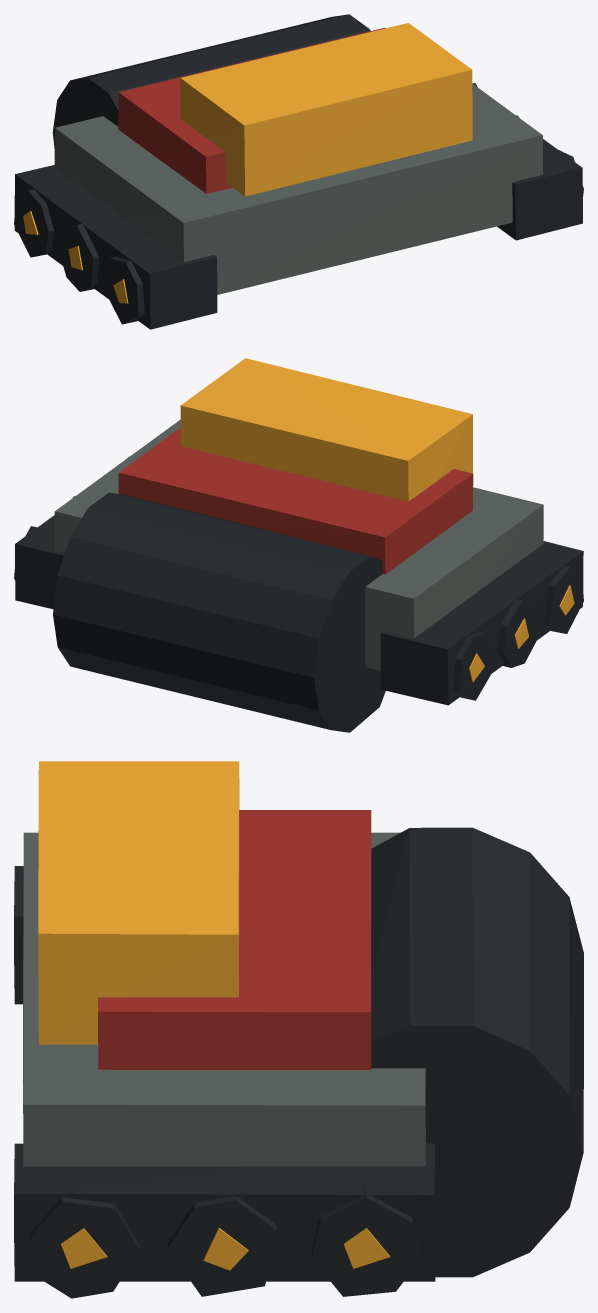
The model's file is SM_Soviet_SU_BogatyrOreCarrier_LOD3.fbx.
3 views of the same model, one above another, from view 1: azimuth 30°, elevation 25°; view 2: azimuth 150°, elevation 25°; view 3: azimuth 270°, elevation 25° (orthographic). The views are drawn at different scales.
Visible parts, largest first — view 1: LOD03_SM_Soviet_SU_BogatyrOreCarrier; view 2: LOD03_SM_Soviet_SU_BogatyrOreCarrier; view 3: LOD03_SM_Soviet_SU_BogatyrOreCarrier.
Boxes of the visible parts, x1,y1,x2,y2 form: LOD03_SM_Soviet_SU_BogatyrOreCarrier: (14,14,583,329); LOD03_SM_Soviet_SU_BogatyrOreCarrier: (14,358,583,732); LOD03_SM_Soviet_SU_BogatyrOreCarrier: (14,761,583,1298).
Size of the model in its own units: 572 by 406 by 260.
